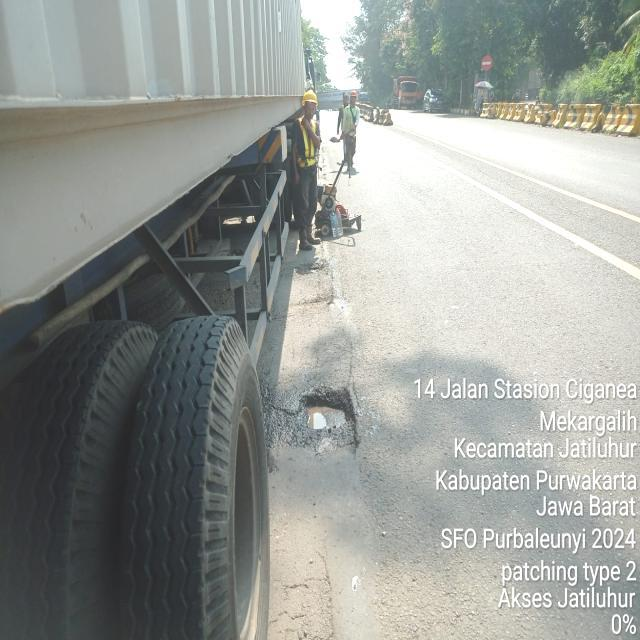Buraco: (264, 384, 363, 458), (292, 258, 332, 278)
